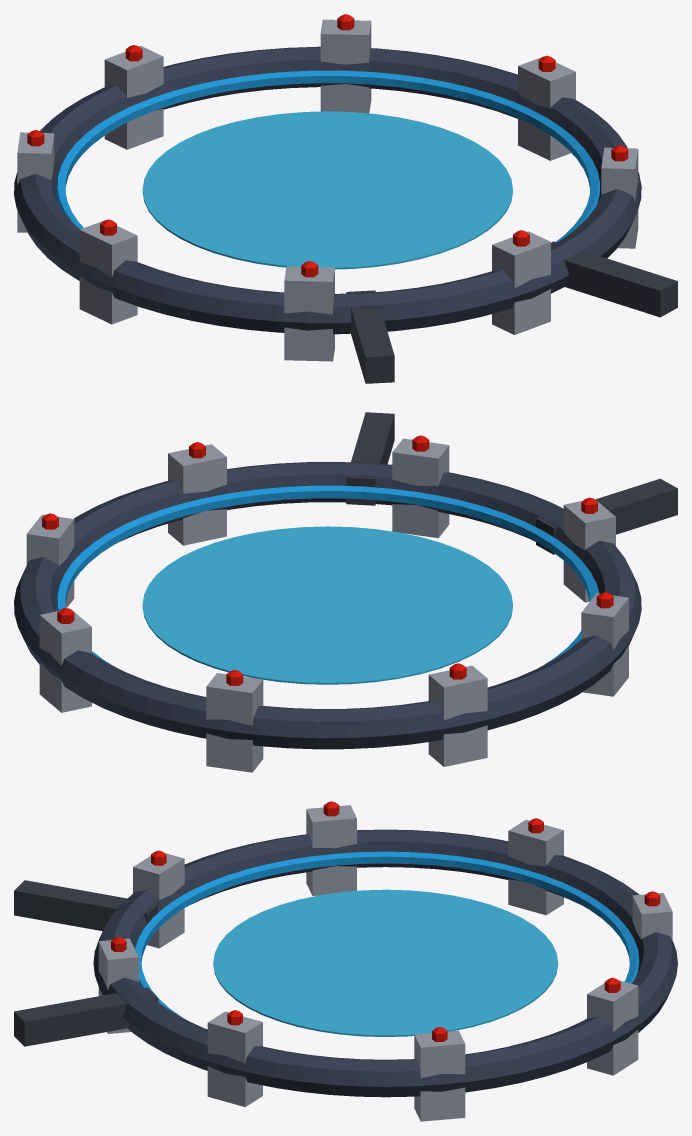
The model's file is warp_gate.glb.
3 renders of one model, top to bottom at view 1: azimuth 30°, elevation 25°; view 2: azimuth 150°, elevation 25°; view 3: azimuth 270°, elevation 25°, orthographic. The views are drawn at different scales.
Parts seen in each view (by area): view 1: warp_gate; view 2: warp_gate; view 3: warp_gate.
Boxes of the visible parts, <box> form: warp_gate: <box>14,14,677,383</box>; warp_gate: <box>14,412,677,772</box>; warp_gate: <box>14,801,677,1121</box>.
Size of the model in its own units: 1.48 by 0.2414 by 1.68.
